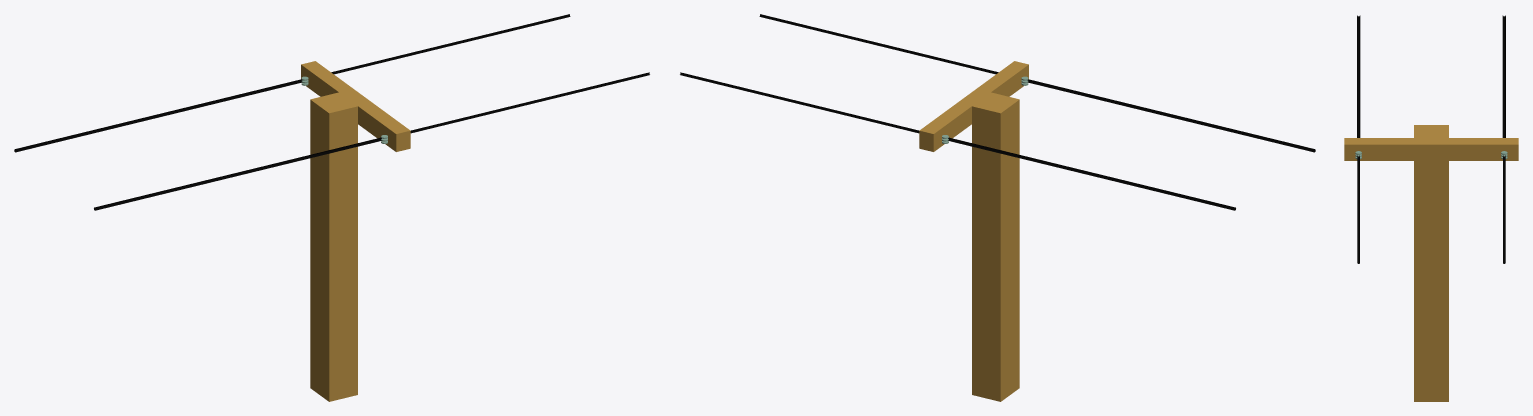
The picture shows the model from 3 angles, left to right: view 1: azimuth 30°, elevation 25°; view 2: azimuth 150°, elevation 25°; view 3: azimuth 270°, elevation 25°; orthographic projection. The views are drawn at different scales.
Visible parts, largest first — view 1: WR15 | archived geometry, WR15 | line, light and sprite surfaces; view 2: WR15 | archived geometry, WR15 | line, light and sprite surfaces; view 3: WR15 | archived geometry, WR15 | line, light and sprite surfaces.
Boxes of the visible parts, x1=… form: WR15 | archived geometry: x1=301, y1=61, x2=410, y2=401; WR15 | line, light and sprite surfaces: x1=14, y1=14, x2=649, y2=210; WR15 | archived geometry: x1=919, y1=61, x2=1028, y2=401; WR15 | line, light and sprite surfaces: x1=680, y1=14, x2=1315, y2=210; WR15 | archived geometry: x1=1344, y1=125, x2=1518, y2=401; WR15 | line, light and sprite surfaces: x1=1357, y1=15, x2=1505, y2=263.
Size of the model in its own units: 16.11 by 8 by 4.78.
